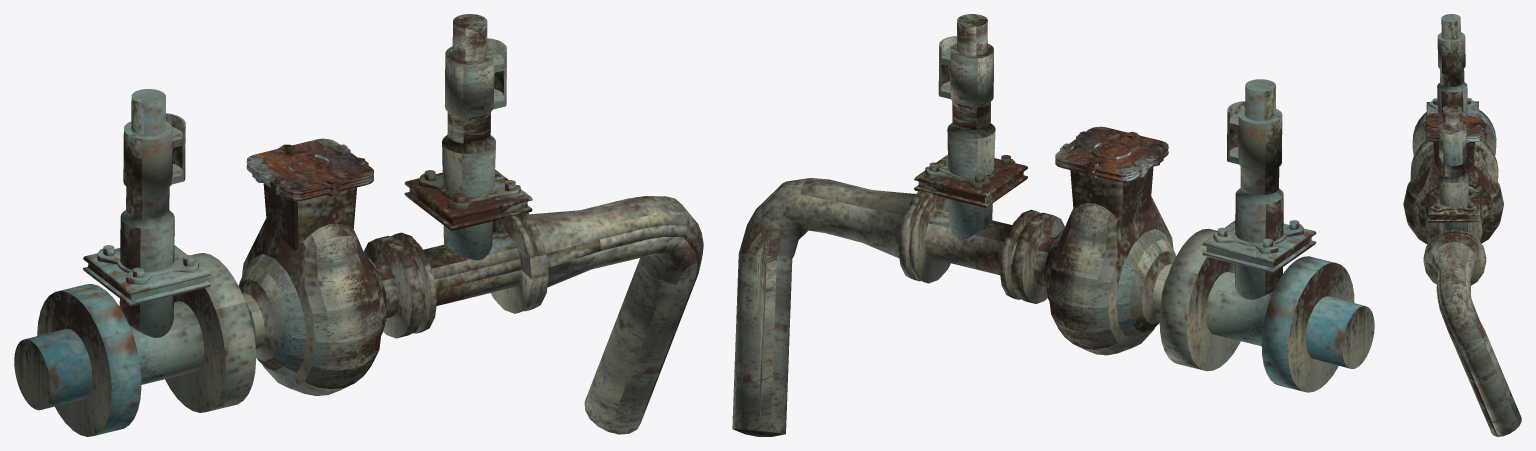
File: OLD BLUE-ISH.fbx
3 views of the same model, side by side, from view 1: azimuth 30°, elevation 25°; view 2: azimuth 150°, elevation 25°; view 3: azimuth 270°, elevation 25° (orthographic). The views are drawn at different scales.
Visible parts, largest first — view 1: OLD BLUE-ISH.001; view 2: OLD BLUE-ISH.001; view 3: OLD BLUE-ISH.001.
Boxes of the visible parts, x1=… form: OLD BLUE-ISH.001: x1=14, y1=14, x2=703, y2=436; OLD BLUE-ISH.001: x1=732, y1=14, x2=1374, y2=436; OLD BLUE-ISH.001: x1=1403, y1=14, x2=1521, y2=436.
Bounding box in the file's own units: 11.45 × 7.91 × 3.09.
